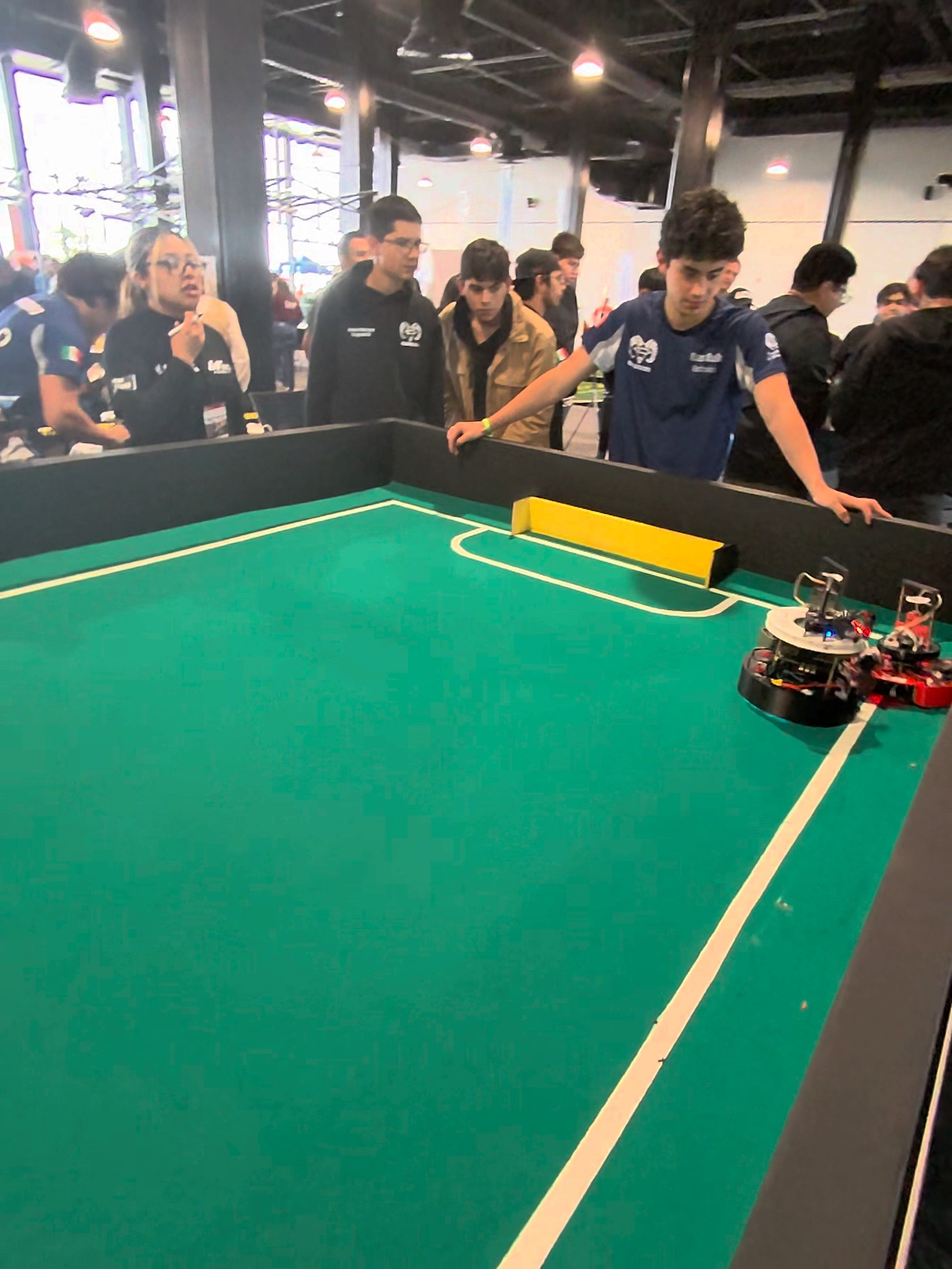Robot: (739, 548, 881, 737), (869, 581, 952, 718)
